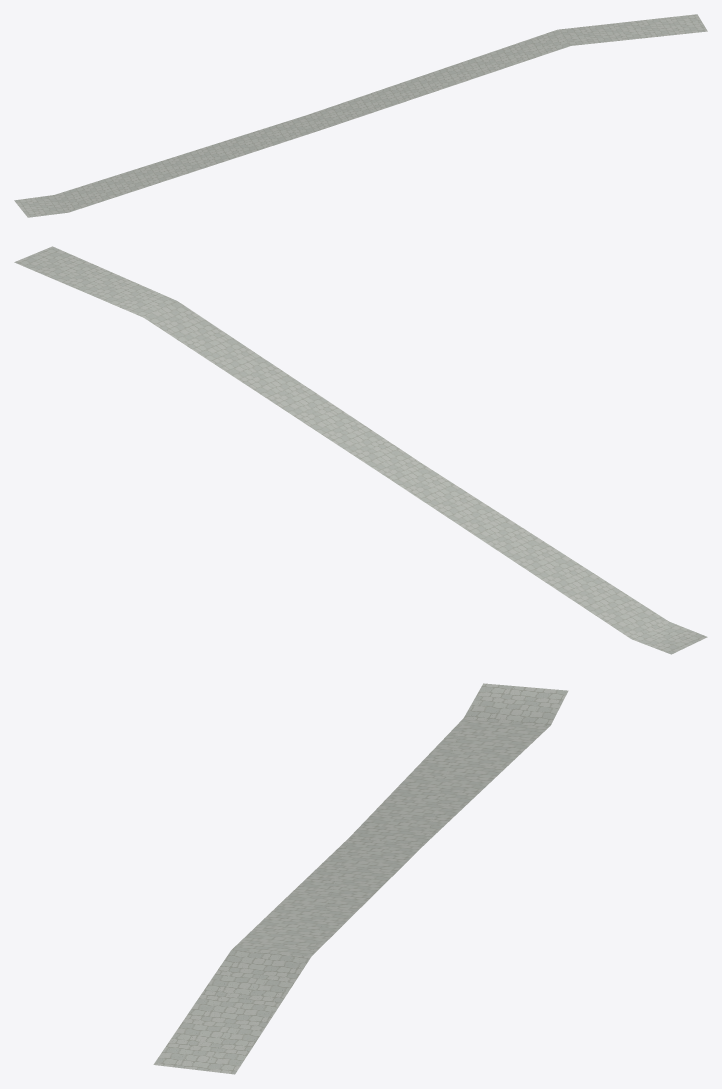
Rendered from kd_connection_world-inner_surface_0_8.glb.
The picture shows the model from 3 angles, top to bottom: view 1: azimuth 30°, elevation 25°; view 2: azimuth 150°, elevation 25°; view 3: azimuth 270°, elevation 25°; orthographic projection. The views are drawn at different scales.
Parts seen in each view (by area): view 1: kd_connection_world-inner_surface_0_8; view 2: kd_connection_world-inner_surface_0_8; view 3: kd_connection_world-inner_surface_0_8.
Boxes of the visible parts, bbox=[...] form: kd_connection_world-inner_surface_0_8: bbox=[14, 14, 707, 217]; kd_connection_world-inner_surface_0_8: bbox=[14, 246, 707, 654]; kd_connection_world-inner_surface_0_8: bbox=[153, 683, 568, 1074].
Size of the model in its own units: 86.6 by 13.74 by 25.64.
Materials: 1 (1 with a texture image).
